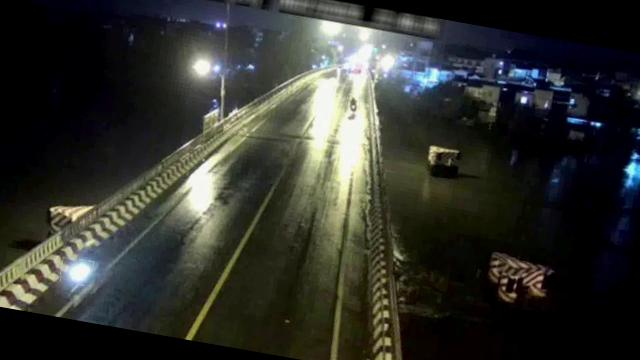Bike: (59, 256, 95, 286), (344, 92, 362, 117)
